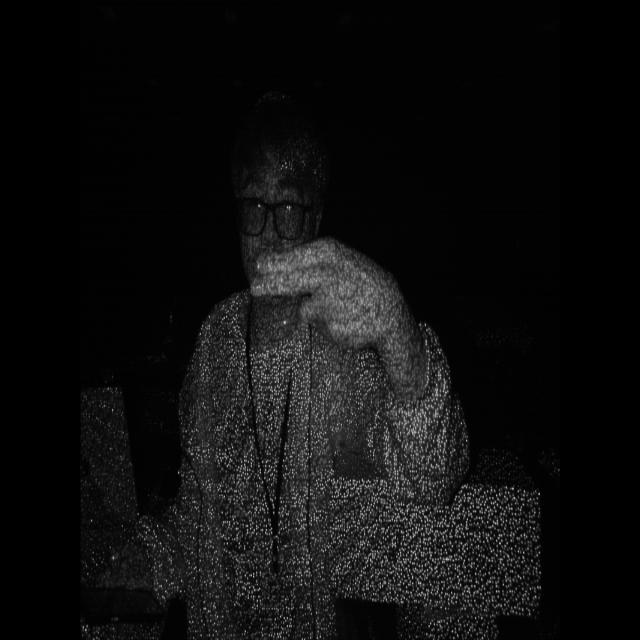H: (240, 228, 437, 395)
